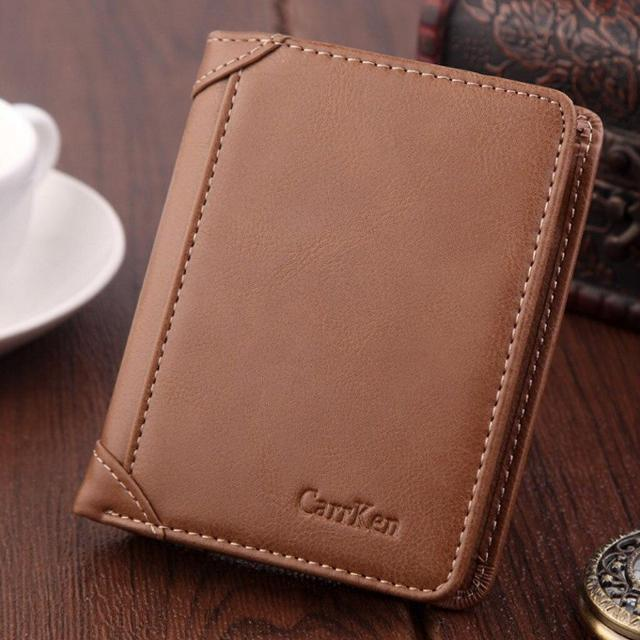wallet: (77, 25, 605, 612)
